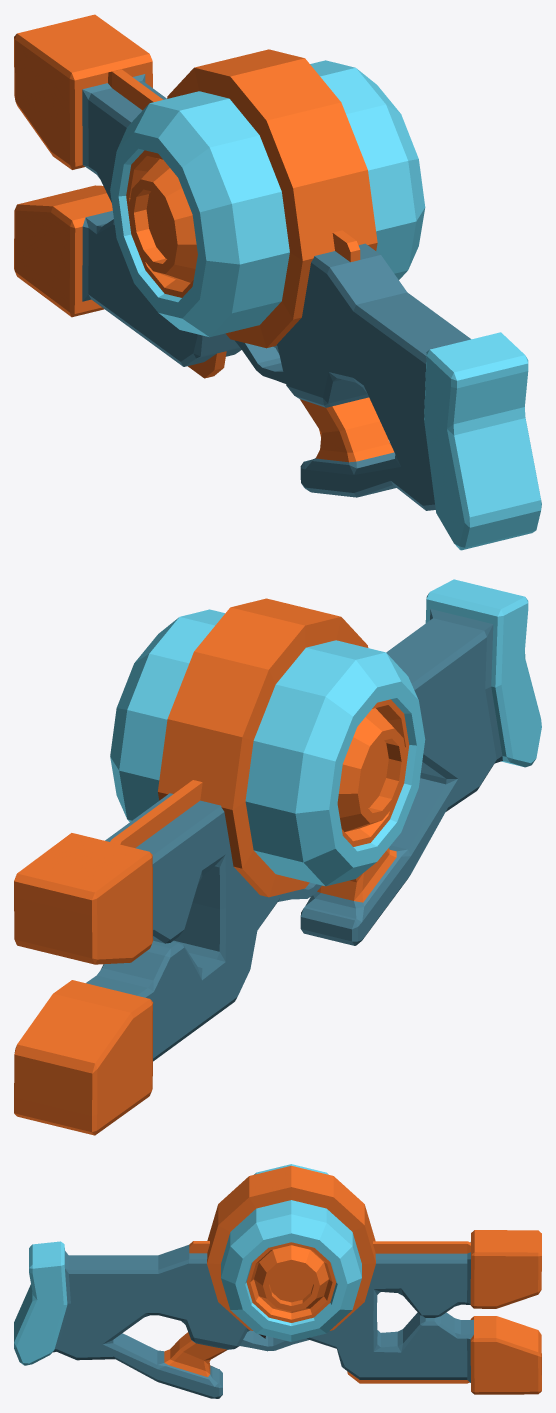
File: LightningGun.glb
3 views of the same model, one above another, from view 1: azimuth 30°, elevation 25°; view 2: azimuth 150°, elevation 25°; view 3: azimuth 270°, elevation 25° (orthographic). The views are drawn at different scales.
Parts seen in each view (by area): view 1: Lightning Gun; view 2: Lightning Gun; view 3: Lightning Gun.
Boxes of the visible parts, box(x1,y1,x2,y2) form: Lightning Gun: box(14, 14, 541, 550); Lightning Gun: box(14, 579, 541, 1135); Lightning Gun: box(14, 1164, 541, 1398).
Size of the model in its own units: 1.4 by 2.16 by 4.8.
